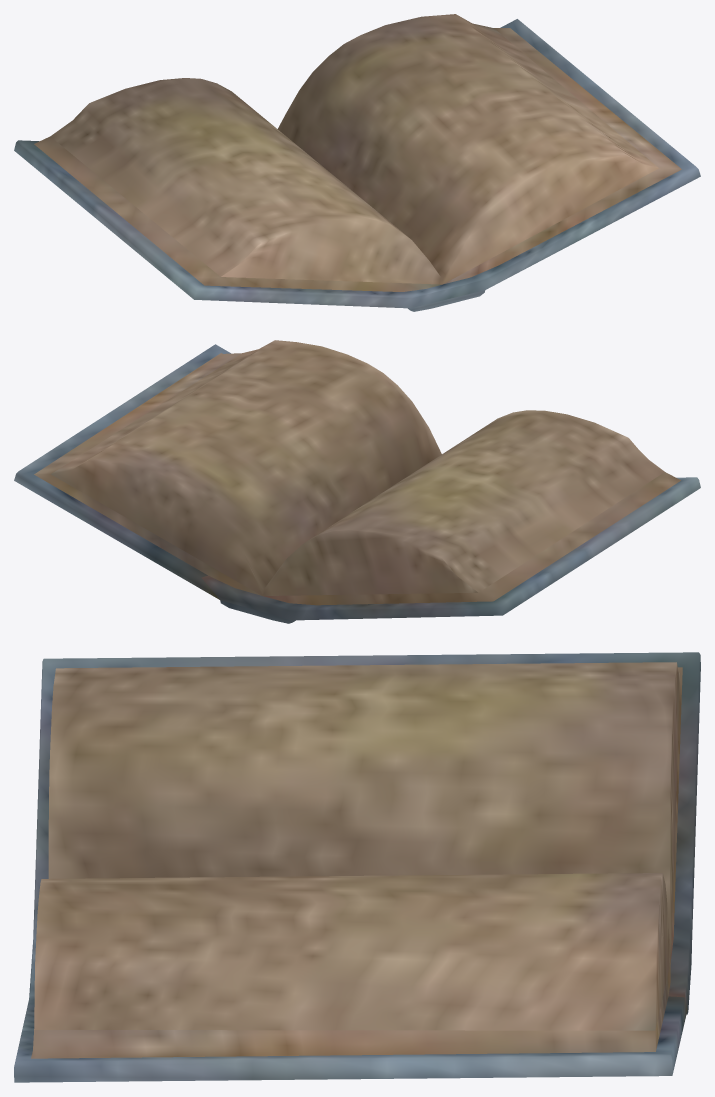
File: Book_1.glb
The picture shows the model from 3 angles, top to bottom: view 1: azimuth 30°, elevation 25°; view 2: azimuth 150°, elevation 25°; view 3: azimuth 270°, elevation 25°; orthographic projection. The views are drawn at different scales.
Visible parts, largest first — view 1: Mindflayer Infiltrator.001; view 2: Mindflayer Infiltrator.001; view 3: Mindflayer Infiltrator.001.
Part boxes in pixels (x1,y1,x2,y2): Mindflayer Infiltrator.001: (14, 14, 700, 311); Mindflayer Infiltrator.001: (14, 340, 700, 623); Mindflayer Infiltrator.001: (14, 652, 700, 1082).
Bounding box in the file's own units: 0.6446 × 0.144 × 0.4346.
1 material, 1 textured.
